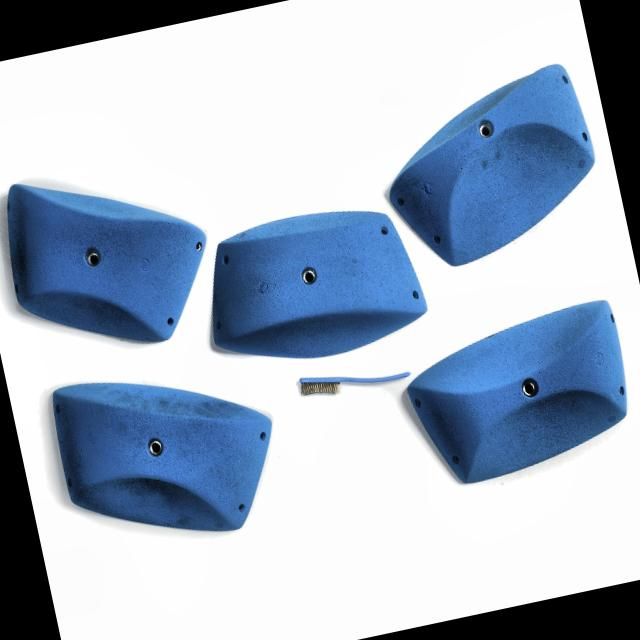Hold: (364, 57, 610, 270), (41, 347, 274, 570), (0, 143, 226, 366), (396, 288, 640, 492), (195, 192, 438, 378)
